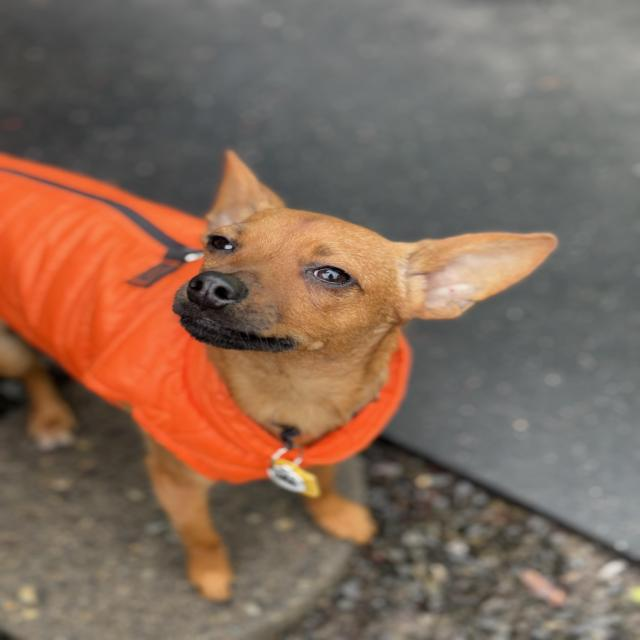chihuahua_dog: (165, 135, 576, 377)
